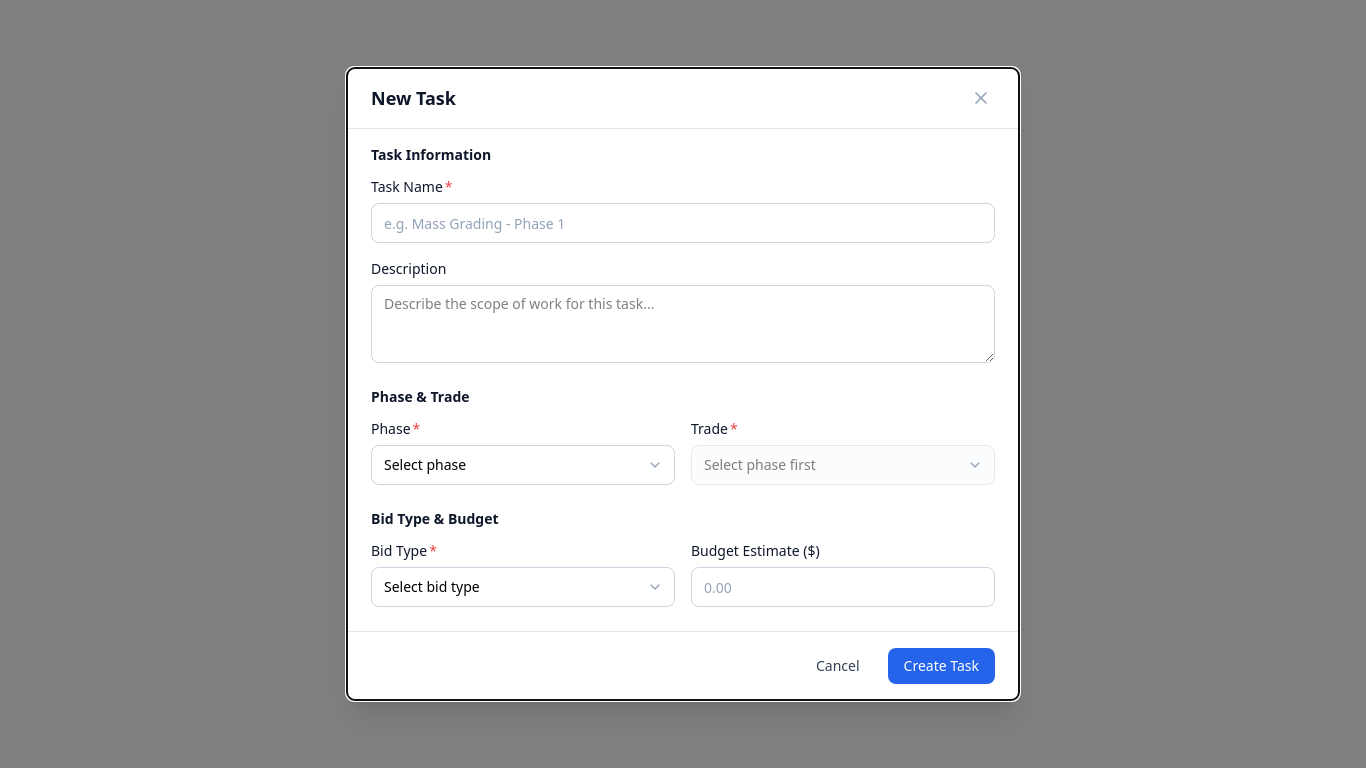
Test: TaskForm trade dropdown › lists only trades matching the selected phase (plus "both")
The image size is (1366, 768).
Select "Development" in the 1st dropdown at (523, 465), box [371,445,675,485]
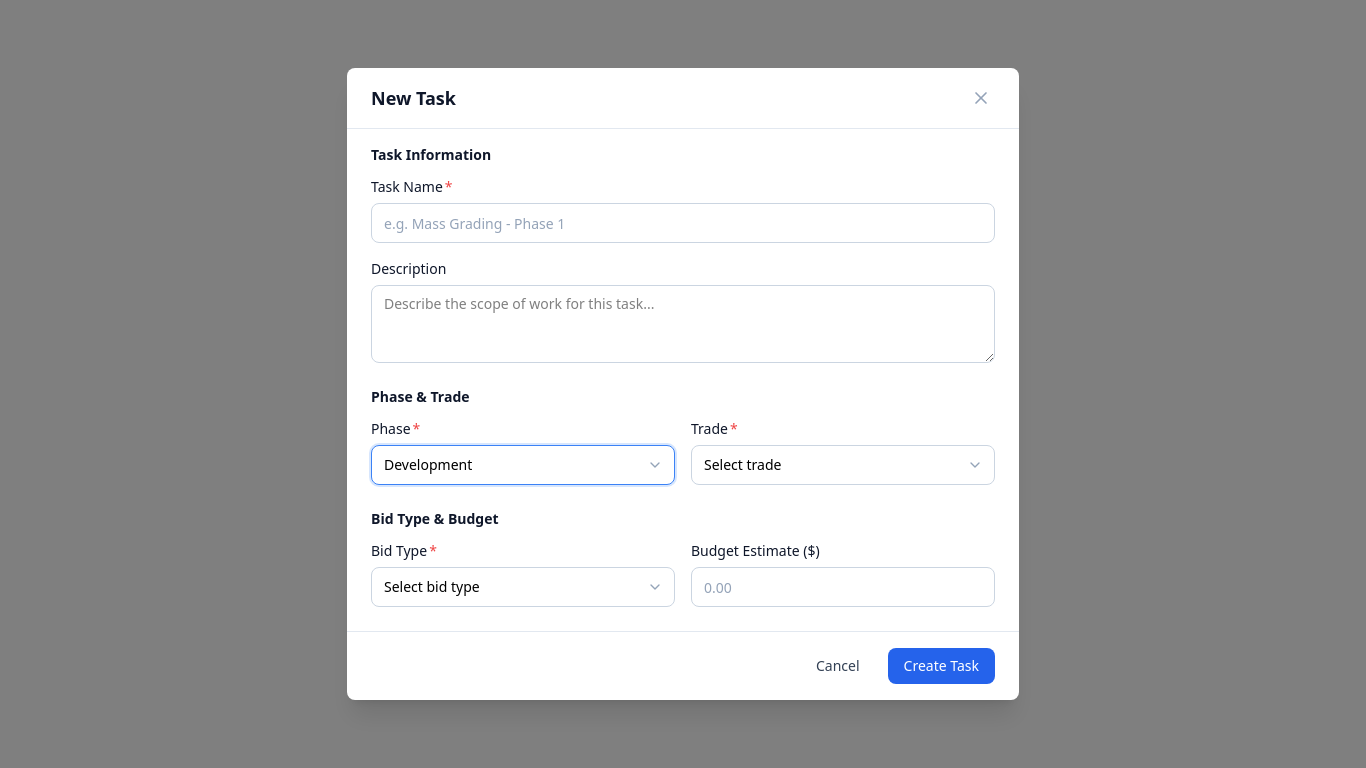
expect the 2nd dropdown is enabled: met, box [691,445,995,485]
